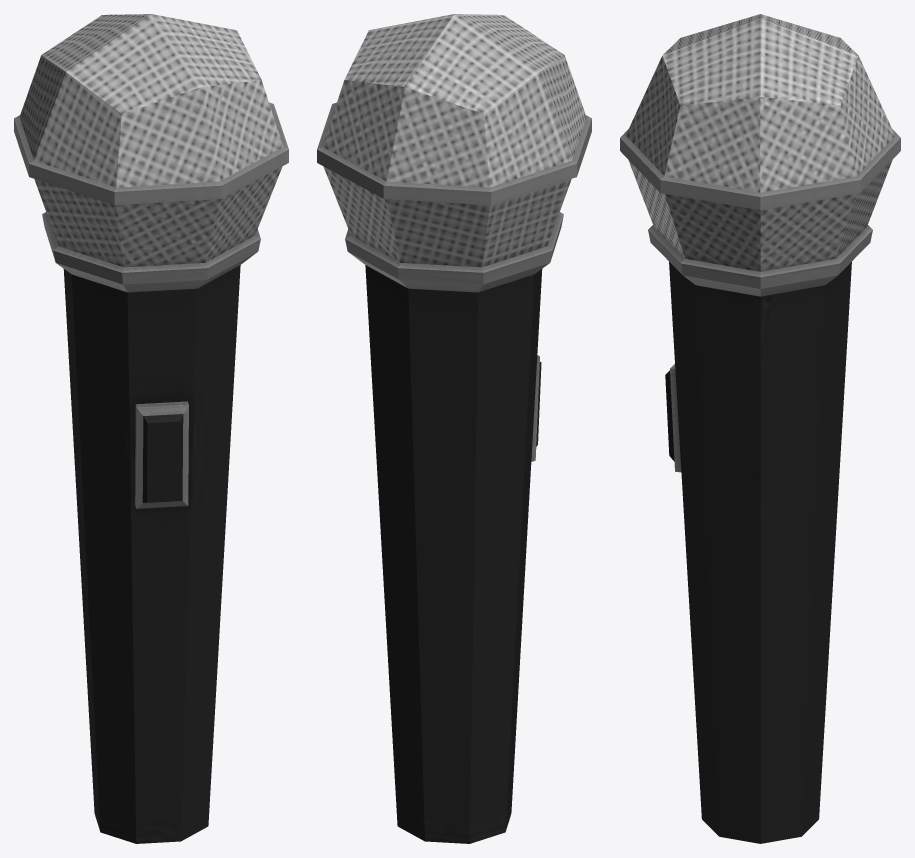
Rendered from pro_mic.glb.
3 views of the same model, side by side, from view 1: azimuth 30°, elevation 25°; view 2: azimuth 150°, elevation 25°; view 3: azimuth 270°, elevation 25° (orthographic).
Parts seen in each view (by area): view 1: Microphone_mesh; view 2: Microphone_mesh; view 3: Microphone_mesh.
Part boxes in pixels (x1,y1,x2,y2): Microphone_mesh: (14, 14, 288, 843); Microphone_mesh: (317, 14, 591, 843); Microphone_mesh: (620, 14, 900, 843).
Bounding box in the file's own units: 3.54 × 11.14 × 3.54.
1 material, 1 textured.
